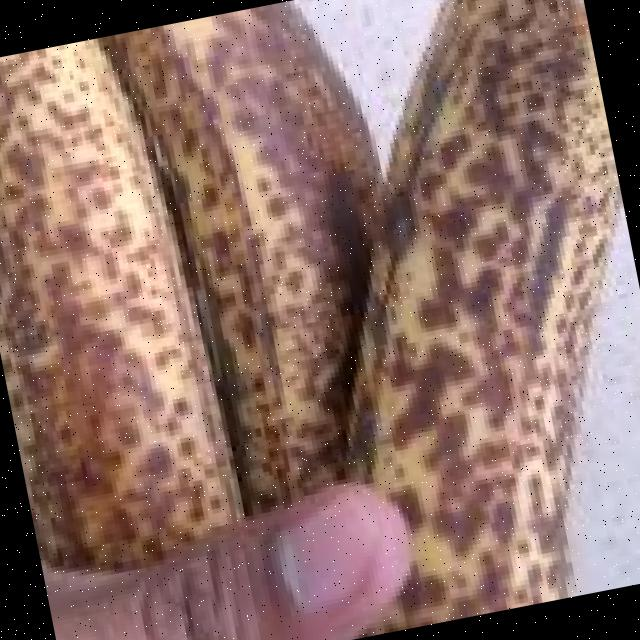Bad_Banana-0 day: (0, 0, 622, 637)
